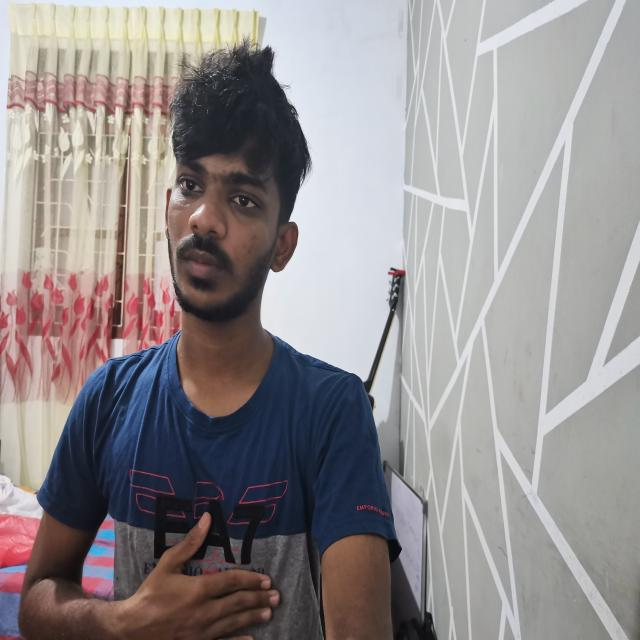Please: (16, 504, 279, 640)
